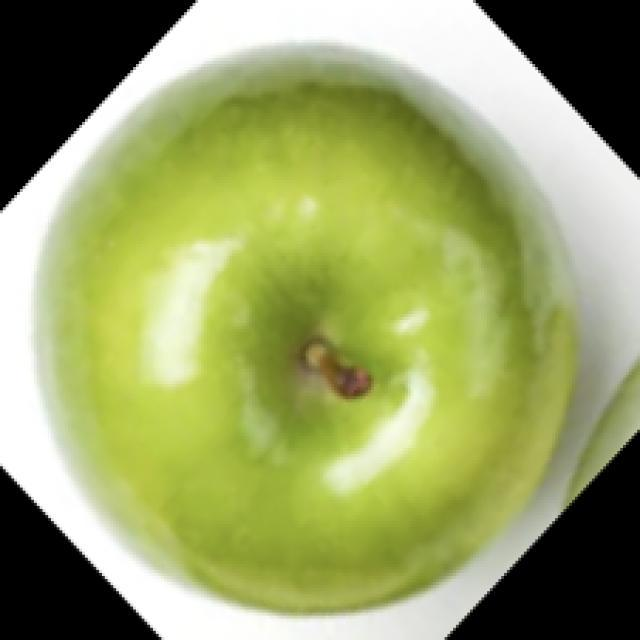Fresh Apple: (59, 51, 568, 606)
